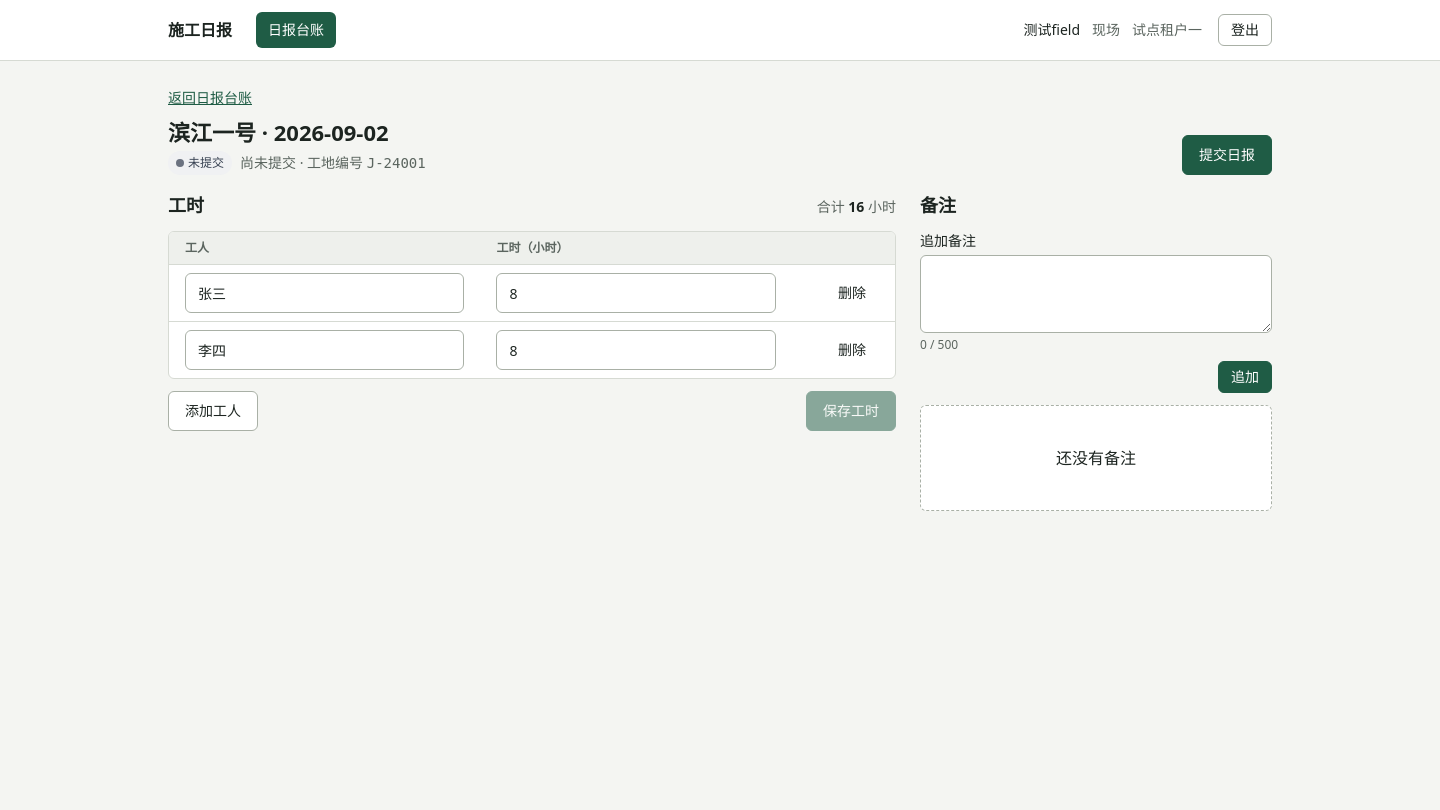
Test: ReportDetailPage › shows already_submitted inside the confirm dialog
Click the button "提交日报" at x=1227, y=155, box [1182,135,1272,175]
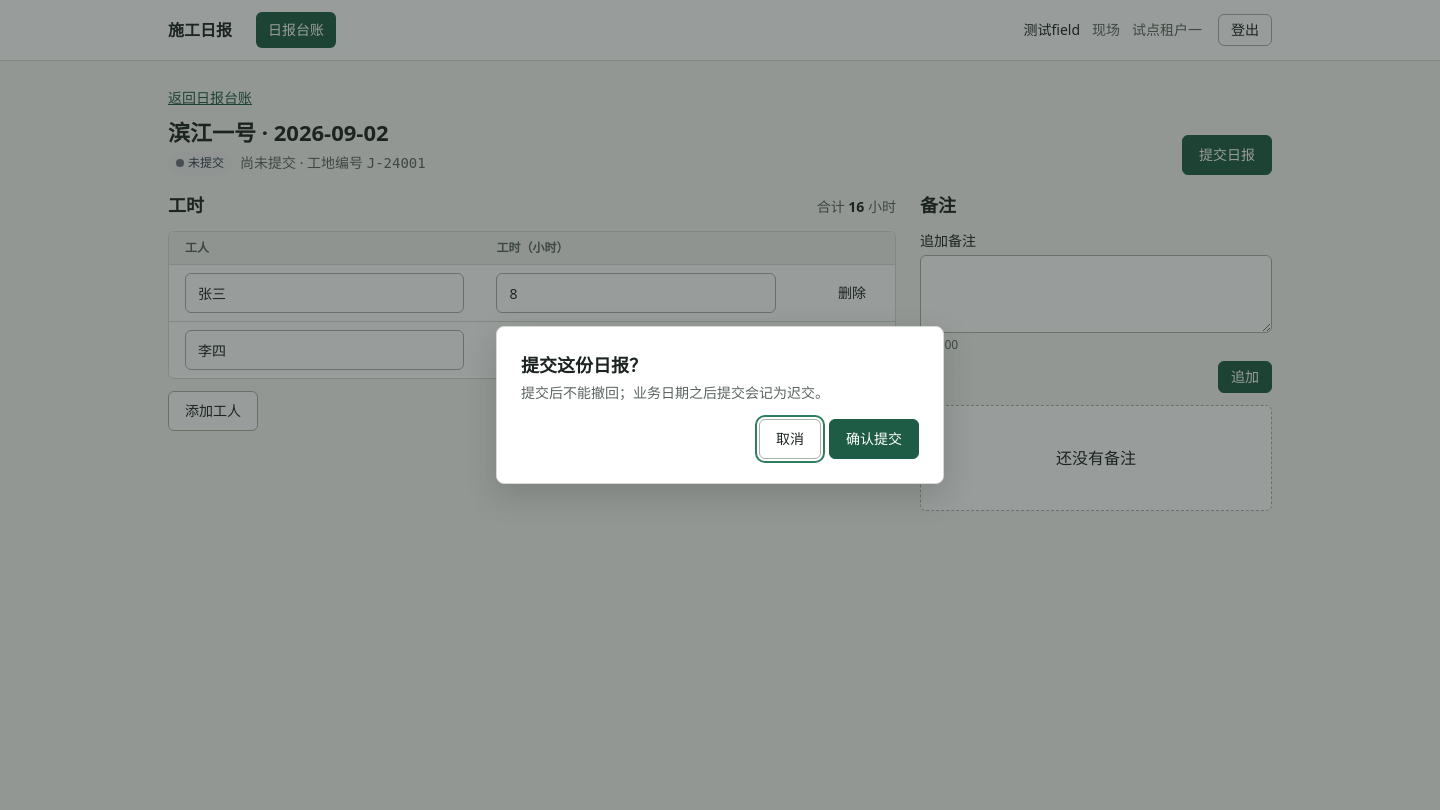
Click the button "确认提交" at x=874, y=439, box [829,419,919,459]
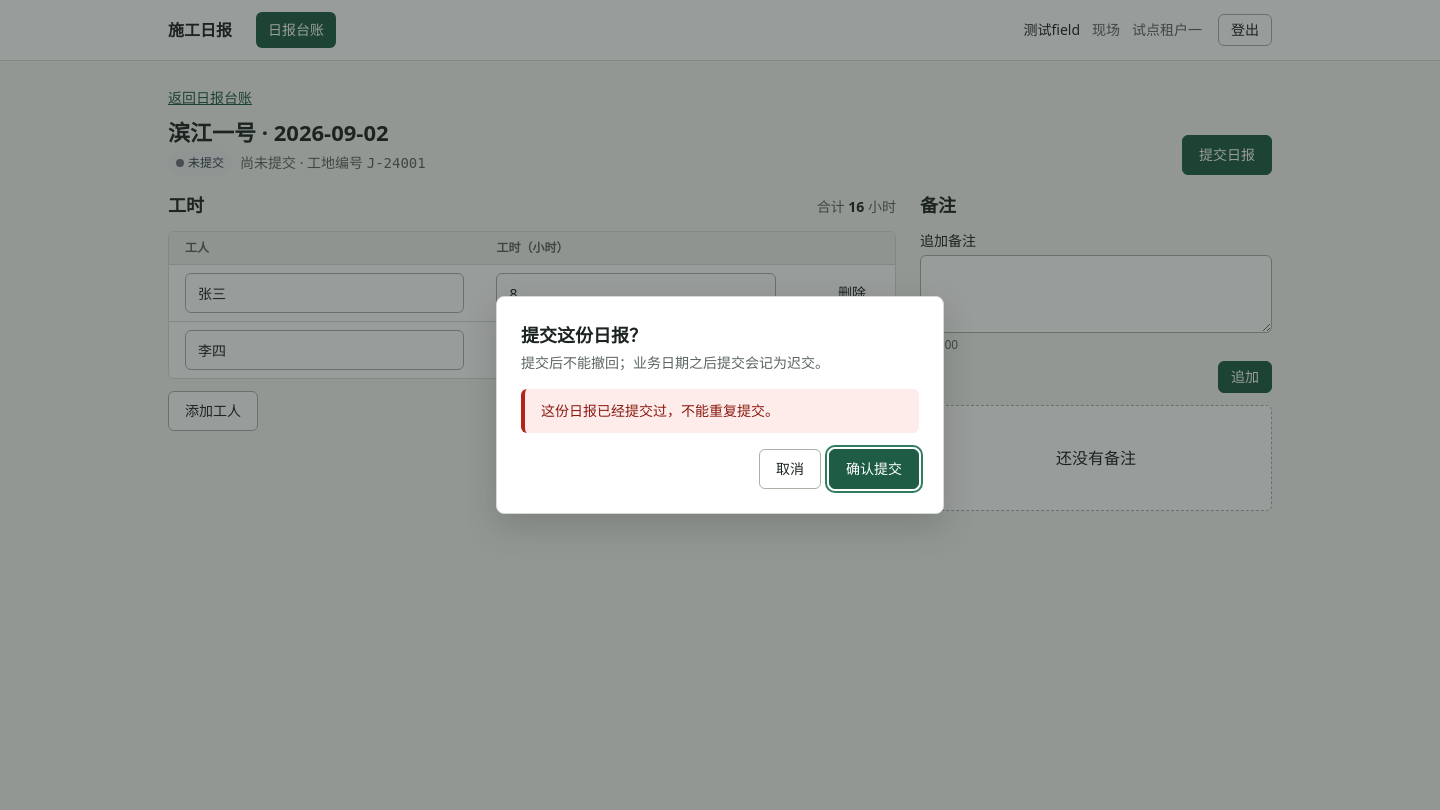
Now the message shows "已经提交过", box [541,401,779,420]
